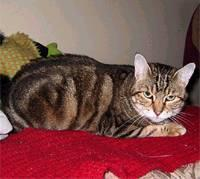cat: (2, 54, 195, 137)
